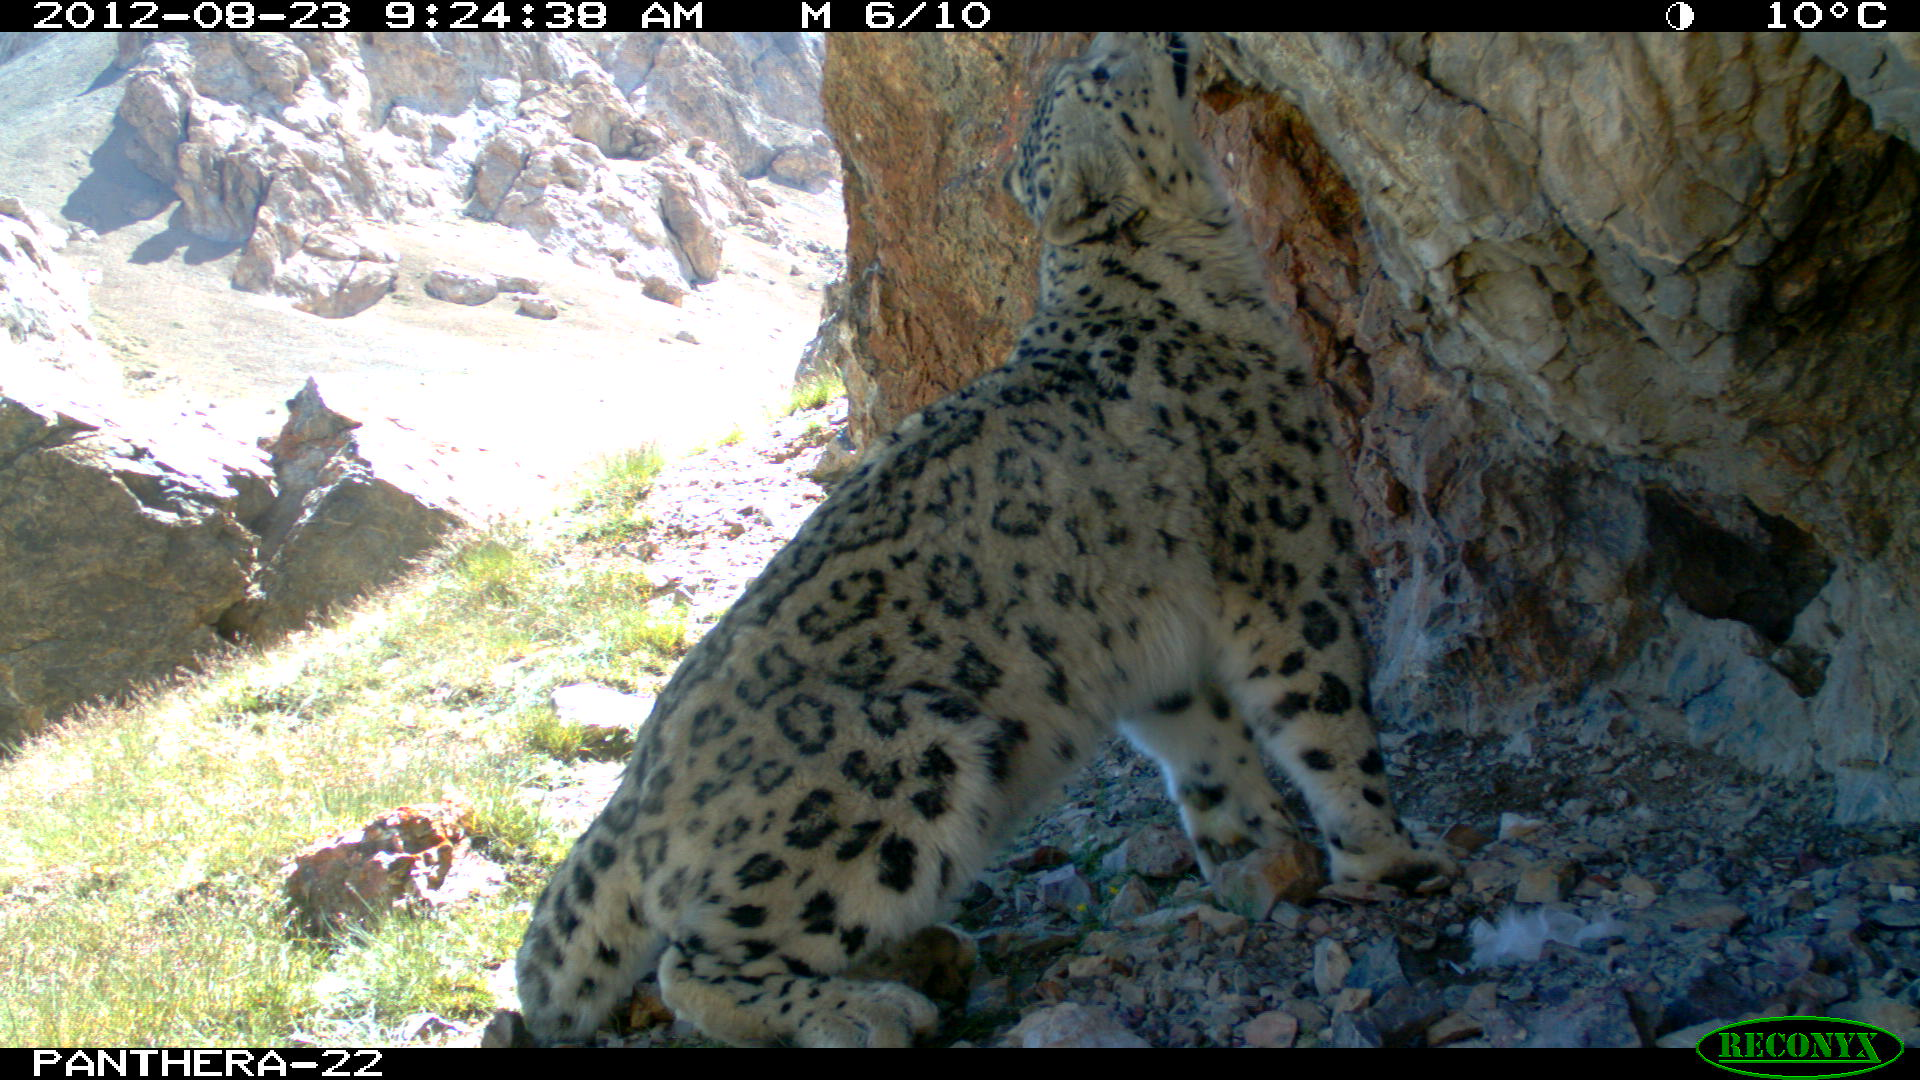Leopard: (491, 32, 1494, 1050)
